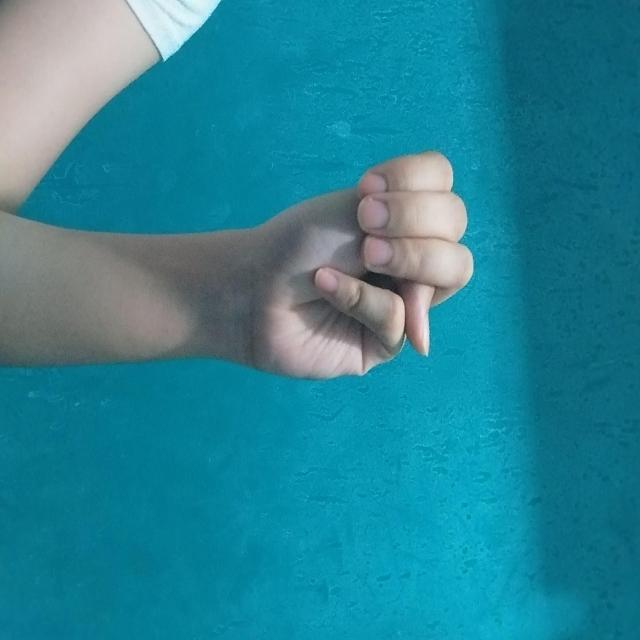M: (263, 144, 490, 403)
